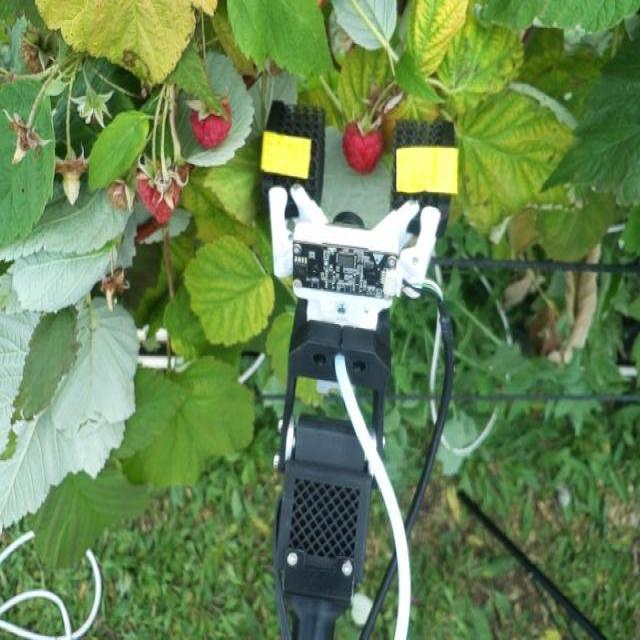Riped berries: (135, 163, 185, 224), (342, 113, 387, 177), (187, 93, 233, 151)
